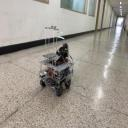cart: (38, 56, 74, 97)
